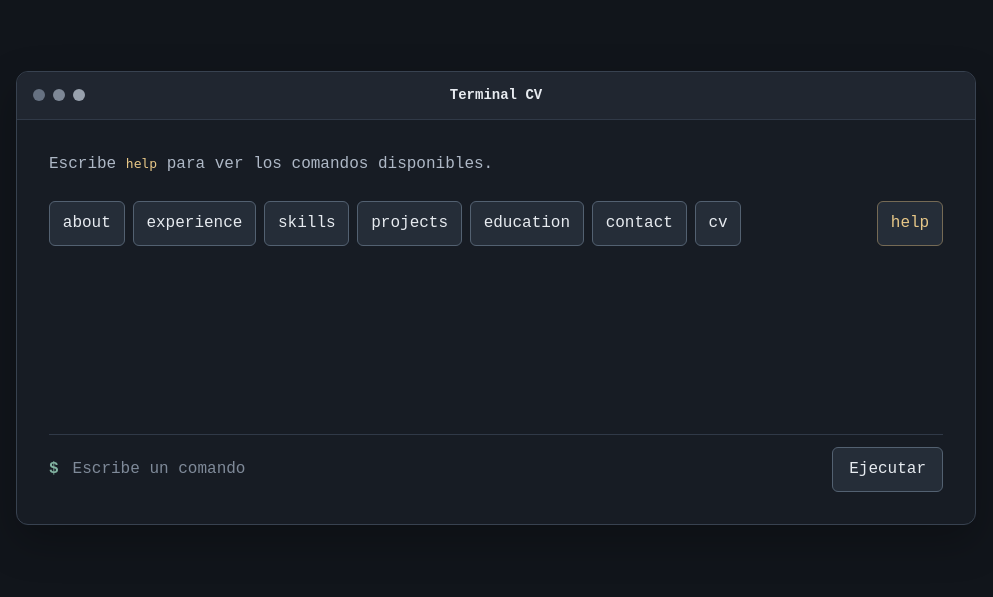
Scenario: Terminal › executes a command with Enter and keeps input focus
Type "whoami" into the field labelled "Escribe un comando" at (445, 470), box top-left (71, 448), bottom-right (820, 492)
Then press Enter
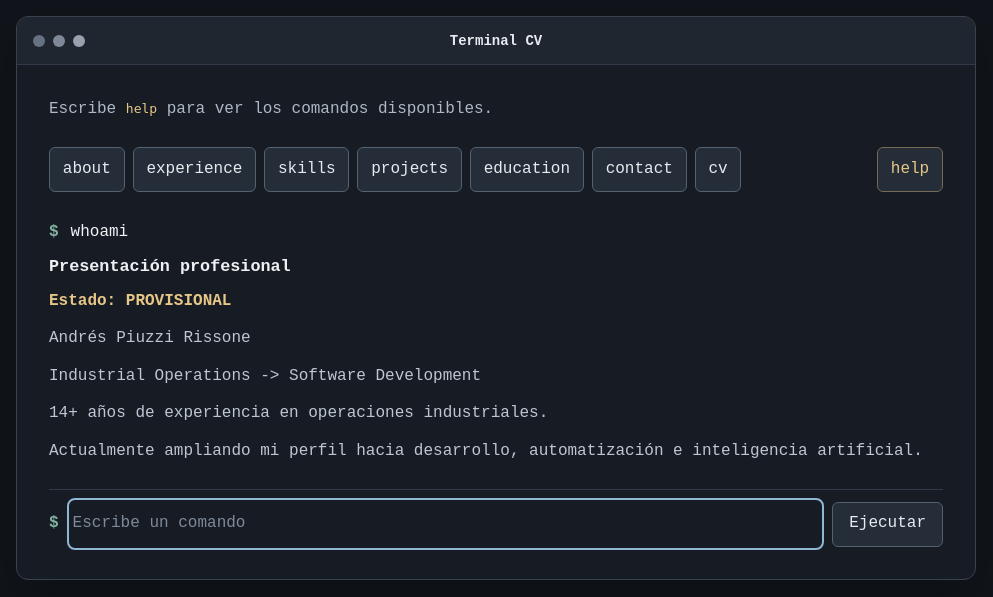
Expected: the field labelled "Escribe un comando" is empty, top-left (71, 502), bottom-right (820, 546)
Now the heading "Presentación profesional" is shown, box top-left (49, 257), bottom-right (291, 276)
Now the text "Estado: PROVISIONAL" is shown, box top-left (49, 292), bottom-right (231, 310)
